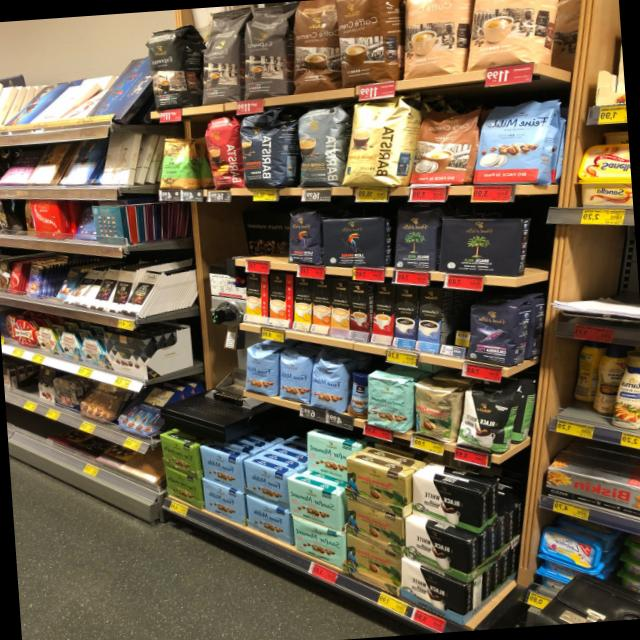Athiopien Bohne: (154, 132, 200, 190)
BM Bohne: (390, 204, 441, 272)
BM Gemahlen: (436, 216, 526, 278)
BW Bohne: (454, 386, 515, 456)
BW Gemahlen: (399, 558, 465, 626), (412, 473, 484, 534), (405, 518, 471, 583)
Barista CB: (339, 93, 415, 187)
Barista CC: (294, 101, 346, 187)
Barista Espresso: (240, 107, 286, 189)
Barista Kolumbien: (202, 115, 243, 189)
C Fino Bohne: (464, 300, 522, 368)
CC Vollmundig: (407, 104, 482, 186)
Colombia BB Bohne: (409, 381, 458, 445)
Colombia BB Gemahlen: (345, 457, 405, 517), (344, 533, 401, 595), (345, 498, 402, 556)
Empty Shelf: (224, 209, 284, 264), (441, 288, 470, 347)
Espresso Aromatisch: (242, 2, 296, 99), (200, 7, 250, 105)
Espresso Kraftig: (143, 20, 200, 111)
FM 36 Pads: (471, 96, 563, 185)
FM Bohne: (307, 355, 348, 413), (275, 350, 312, 405), (243, 344, 278, 398)
Herzhatfe Mundig: (159, 433, 199, 479), (163, 466, 201, 510)
LG Bohne: (283, 208, 322, 266)
LG Gemahlen: (322, 214, 386, 269)
SM Bohne: (365, 373, 412, 434)
SM Gemahlen: (291, 514, 345, 569), (287, 478, 341, 532), (246, 493, 292, 546), (243, 459, 290, 510), (201, 477, 244, 526), (200, 445, 243, 493)
Simo CCMild: (245, 272, 267, 324)
Simo CCMild bigpack: (293, 276, 311, 331)
Simo CCVollmundig: (268, 272, 292, 327)
Simo CCVollmundig bigpack: (311, 278, 330, 335)
Simo Decaff: (331, 278, 348, 338)
Simo Es Brazil: (370, 283, 395, 345)
Simo Es Caramel: (349, 282, 369, 341)
Simo Es Kraft: (392, 284, 418, 349)
Simo Es Vanilla: (415, 286, 443, 353)
